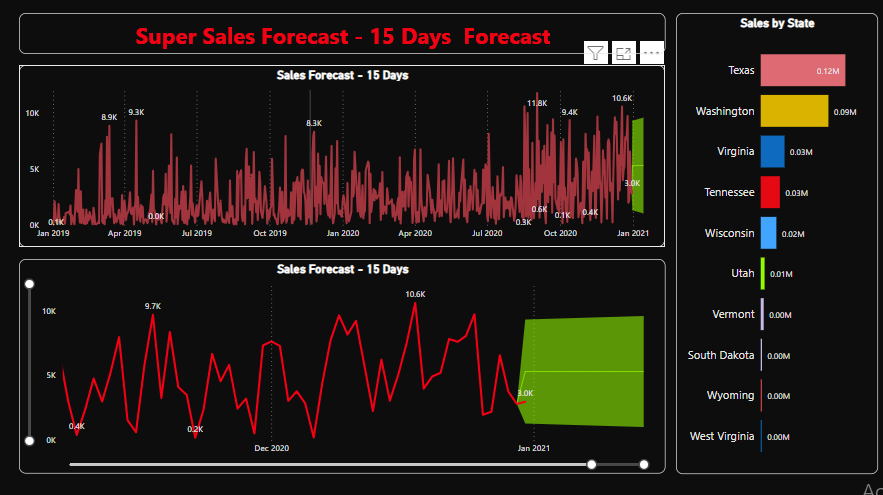

What the dashboard file says about the page in this screenshot:
{"tool":"powerbi","page":{"name":"Page 2","canvas":[1280,720],"ordinal":1},"visuals":[{"type":"lineChart","title":"Sales Forecast - 15 Days","fields":{"Y":["Sum(SuperStore_Sales_Dataset.Sales)"],"Category":["SuperStore_Sales_Dataset.Order Date"]},"box":[31.7,97.9,930.2,262.1],"z":0},{"type":"lineChart","title":"Sales Forecast - 15 Days","fields":{"Y":["Sum(SuperStore_Sales_Dataset.Sales)"],"Category":["SuperStore_Sales_Dataset.Order Date"]},"box":[31.9,378,930.6,309.1],"z":1},{"type":"textbox","box":[31.9,23.5,930.6,58.8],"z":2},{"type":"clusteredBarChart","title":"Sales by State","fields":{"Y":["Sum(SuperStore_Sales_Dataset.Sales)"],"Category":["SuperStore_Sales_Dataset.State"]},"box":[977.6,23.5,290.6,663.5],"z":3}]}

Visuals, with their boxes in screenshot pixels (x1, y1, x2, y2), scaled from the page's 1280x720 canvas onto the 883x495 screenshot:
"Sales Forecast - 15 Days" lineChart: bbox=[22, 67, 664, 248]
"Sales Forecast - 15 Days" lineChart: bbox=[22, 260, 664, 472]
textbox: bbox=[22, 16, 664, 57]
"Sales by State" clusteredBarChart: bbox=[674, 16, 875, 472]
